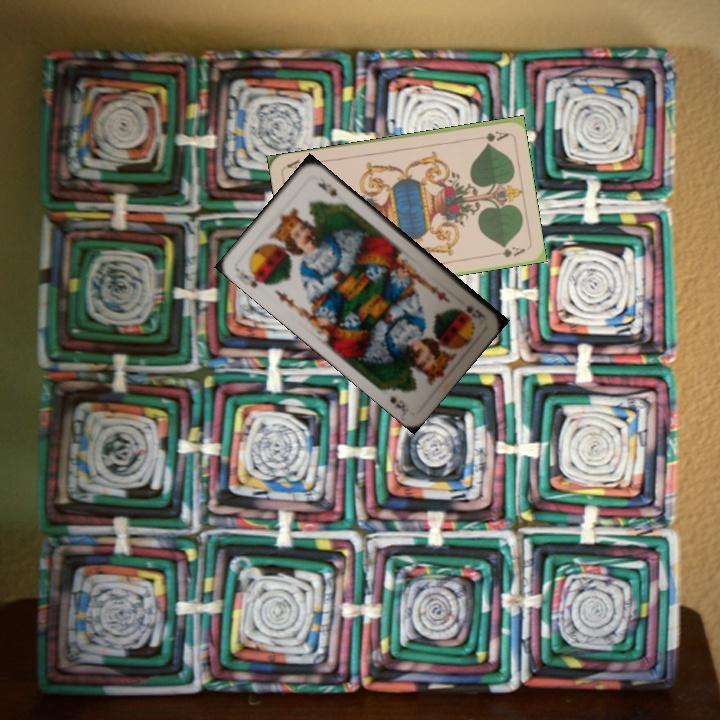GA: (470, 127, 510, 144)
SK: (239, 265, 270, 291), (462, 302, 489, 321)
